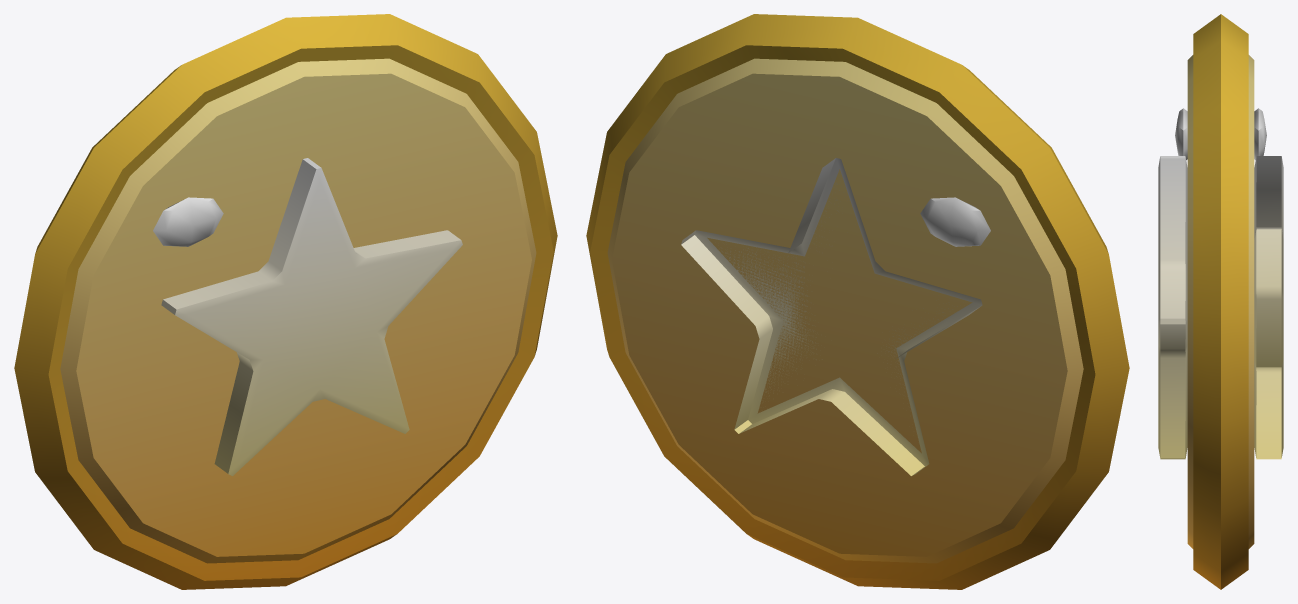
File: collectible_star_coin.glb
3 renders of one model, left to right at view 1: azimuth 30°, elevation 25°; view 2: azimuth 150°, elevation 25°; view 3: azimuth 270°, elevation 25°, orthographic. The views are drawn at different scales.
Parts seen in each view (by area): view 1: CoinBody; view 2: CoinBody; view 3: CoinBody.
Part boxes in pixels (bbox=[...]): CoinBody: bbox=[14, 14, 557, 589]; CoinBody: bbox=[586, 14, 1129, 589]; CoinBody: bbox=[1158, 14, 1283, 589].
Bounding box in the file's own units: 0.69 × 0.69 × 0.15.
